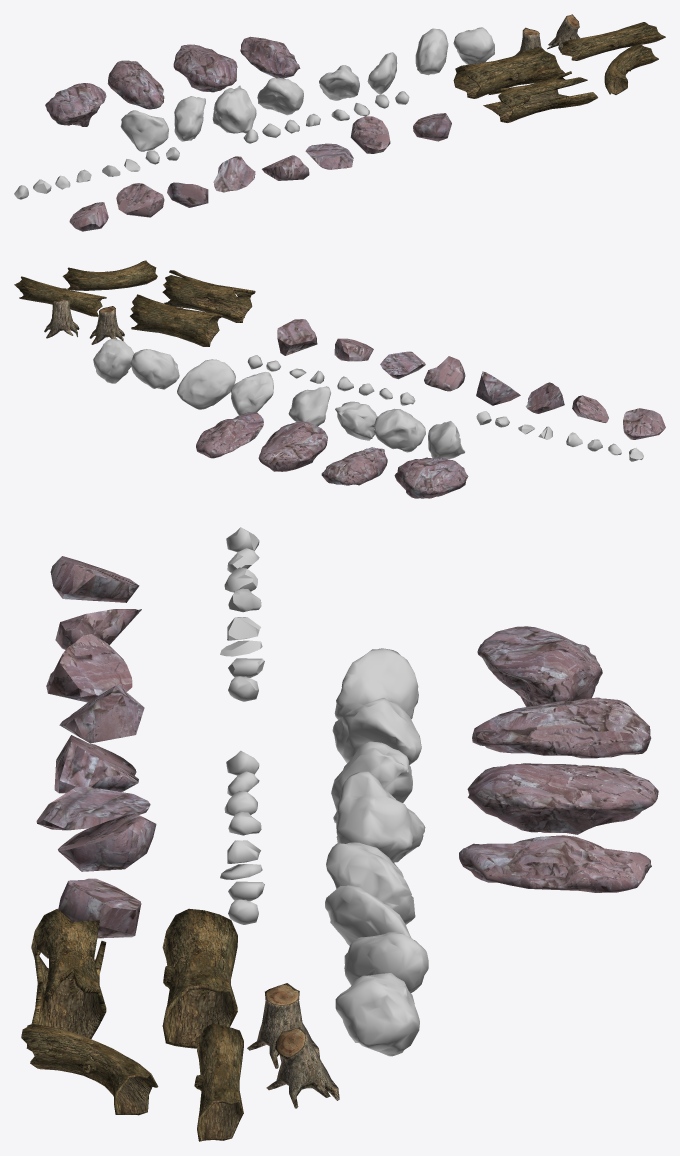
Rendered from Nature_Details00.FBX.
The picture shows the model from 3 angles, top to bottom: view 1: azimuth 30°, elevation 25°; view 2: azimuth 150°, elevation 25°; view 3: azimuth 270°, elevation 25°; orthographic projection. The views are drawn at different scales.
Parts seen in each view (by area): view 1: Trunk03, Trunk006, RockLarge00, Trunk04, RockLarge02, RockLarge03, RockLarge01, RockMedSmooth03, RockMedSmooth05, Trunk005, RockMedSmooth06, RockMedSharp04 (+14 smaller); view 2: Trunk03, Trunk006, RockLarge00, RockLarge03, RockMedSmooth01, RockLarge01, Trunk005, RockLarge02, RockMedSmooth04, Trunk04, RockMedSmooth00, RockMedSmooth02 (+14 smaller); view 3: RockLarge00, Trunk03, RockLarge02, RockLarge01, Trunk006, RockLarge03, Trunk005, RockMedSmooth07, RockMedSmooth06, Trunk04, RockMedSmooth05, RockMedSharp03 (+14 smaller).
Boxes of the visible parts, bbox=[...] form: Trunk03: bbox=[453, 47, 564, 98]; Trunk006: bbox=[483, 71, 597, 122]; RockLarge00: bbox=[173, 44, 237, 92]; Trunk04: bbox=[561, 22, 665, 60]; RockLarge02: bbox=[107, 60, 164, 109]; RockLarge03: bbox=[45, 83, 106, 126]; RockLarge01: bbox=[240, 36, 300, 78]; RockMedSmooth03: bbox=[212, 85, 256, 133]; RockMedSmooth05: bbox=[120, 110, 168, 151]; Trunk005: bbox=[604, 44, 658, 94]; RockMedSmooth06: bbox=[257, 77, 303, 115]; RockMedSharp04: bbox=[116, 183, 164, 217]; Trunk03: bbox=[130, 294, 222, 346]; Trunk006: bbox=[162, 270, 255, 322]; RockLarge00: bbox=[258, 421, 327, 471]; RockLarge03: bbox=[394, 457, 468, 498]; RockMedSmooth01: bbox=[177, 359, 235, 409]; RockLarge01: bbox=[196, 412, 263, 458]; Trunk005: bbox=[62, 260, 157, 290]; RockLarge02: bbox=[321, 447, 387, 485]; RockMedSmooth04: bbox=[374, 408, 425, 452]; Trunk04: bbox=[14, 276, 106, 316]; RockMedSmooth00: bbox=[130, 349, 179, 389]; RockMedSmooth02: bbox=[231, 372, 273, 415]; RockLarge00: bbox=[467, 763, 658, 834]; Trunk03: bbox=[162, 908, 237, 1048]; RockLarge02: bbox=[472, 697, 651, 758]; RockLarge01: bbox=[459, 835, 651, 892]; Trunk006: bbox=[31, 909, 106, 1038]; RockLarge03: bbox=[477, 626, 602, 706]; Trunk005: bbox=[21, 1023, 158, 1115]; RockMedSmooth07: bbox=[335, 973, 419, 1056]; RockMedSmooth06: bbox=[336, 771, 425, 862]; Trunk04: bbox=[194, 1023, 243, 1141]; RockMedSmooth05: bbox=[334, 648, 418, 719]; RockMedSharp03: bbox=[46, 634, 132, 702].
Bounding box in the file's own units: 1284 × 102 × 555.
